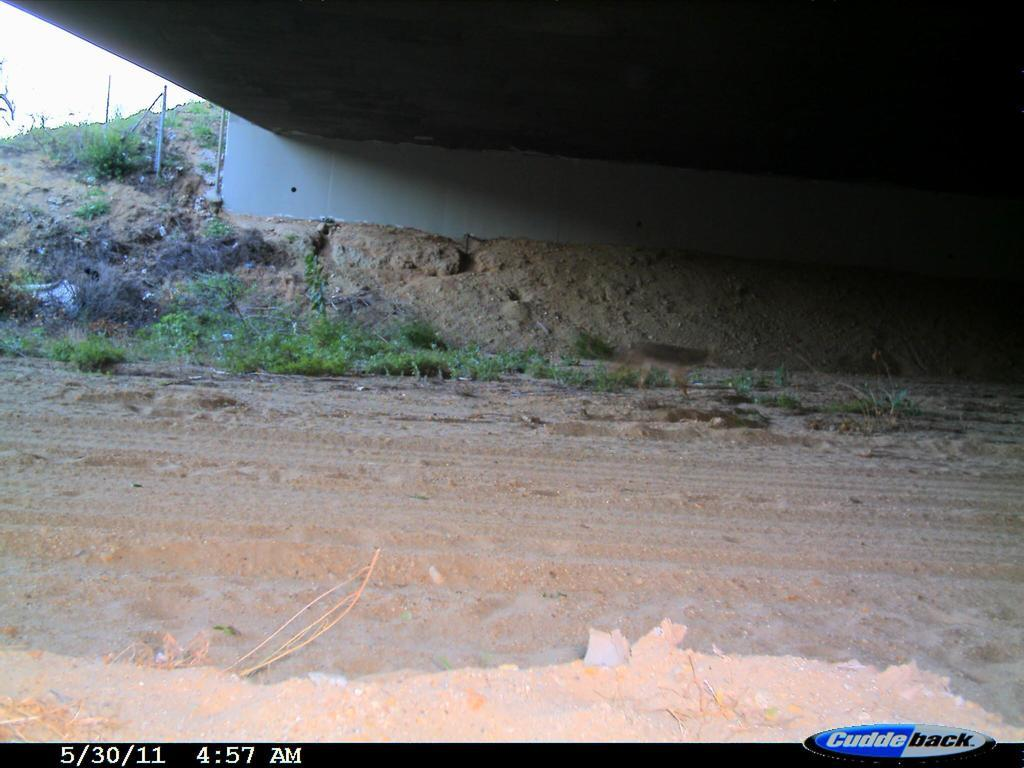coyote: (609, 333, 721, 405)
